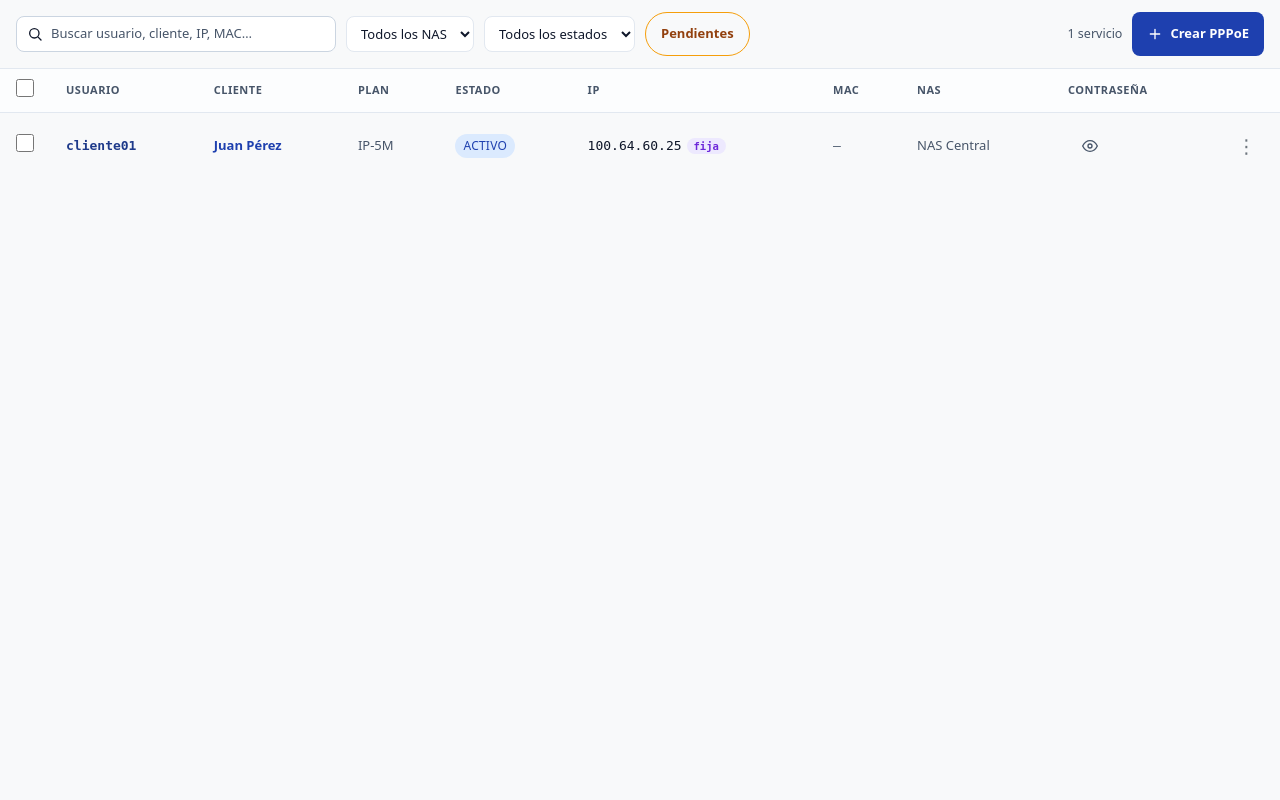
Test: MoveNasModal — S9.2 muestra la IP nueva › el botón Cerrar del estado de éxito cierra el modal
Click the button named "Acciones": (1246, 146) [1229, 132, 1264, 159]
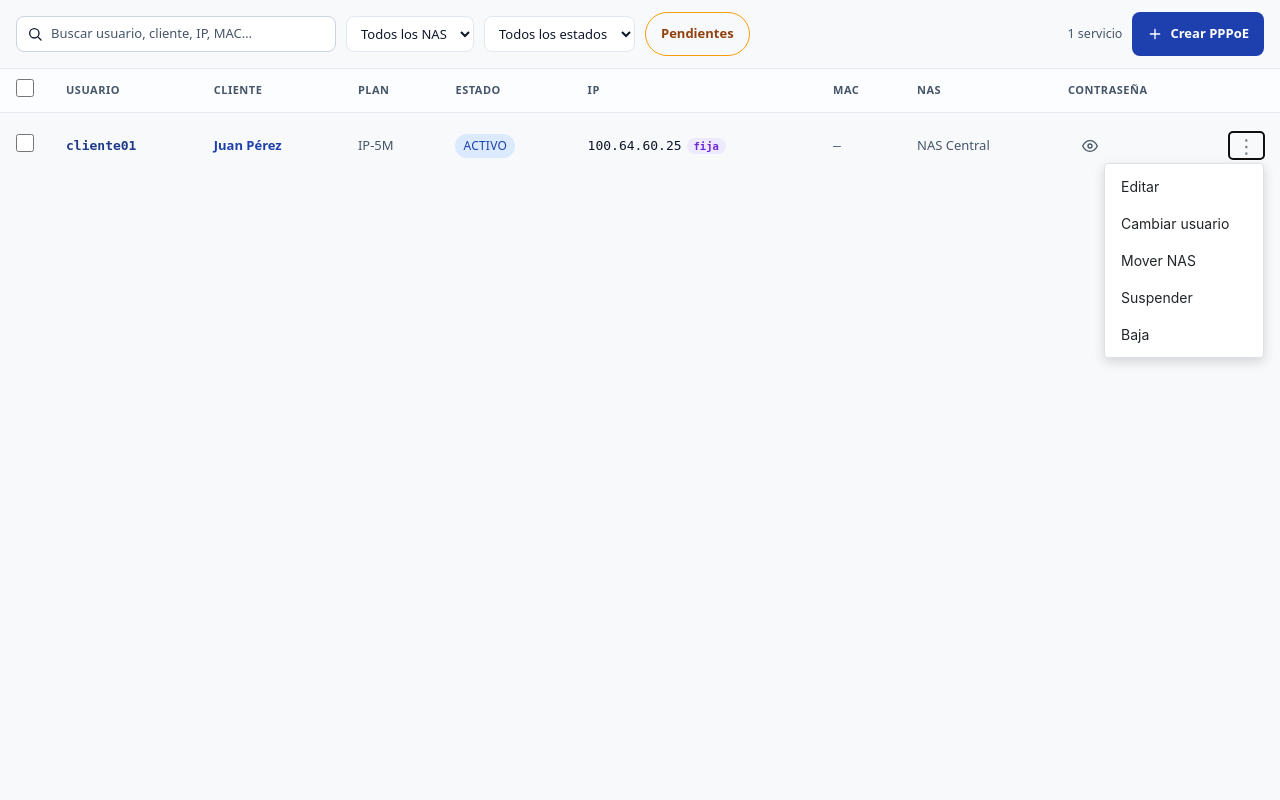
Click the menu item "Mover NAS": (1184, 261) [1105, 242, 1263, 279]
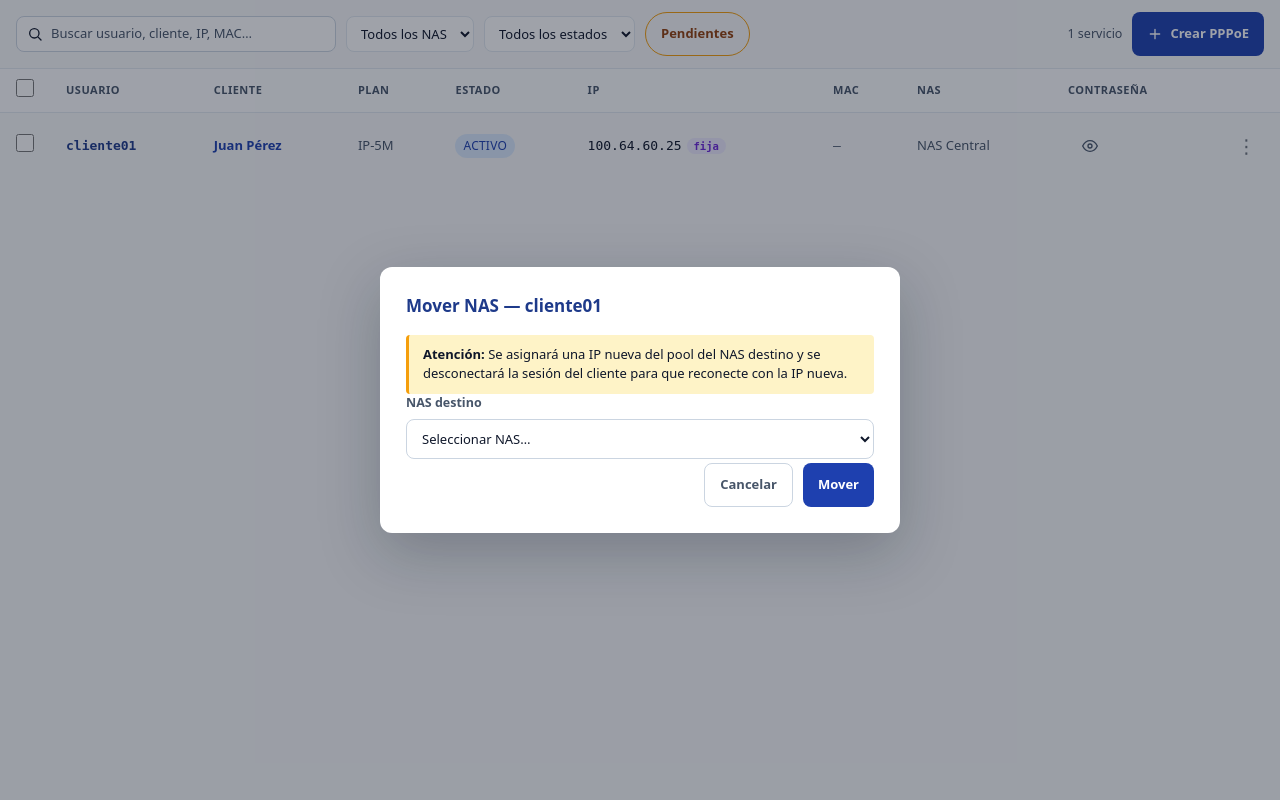
Select "NAS Norte" in the dropdown labelled "NAS destino": (640, 439) [406, 419, 874, 459]
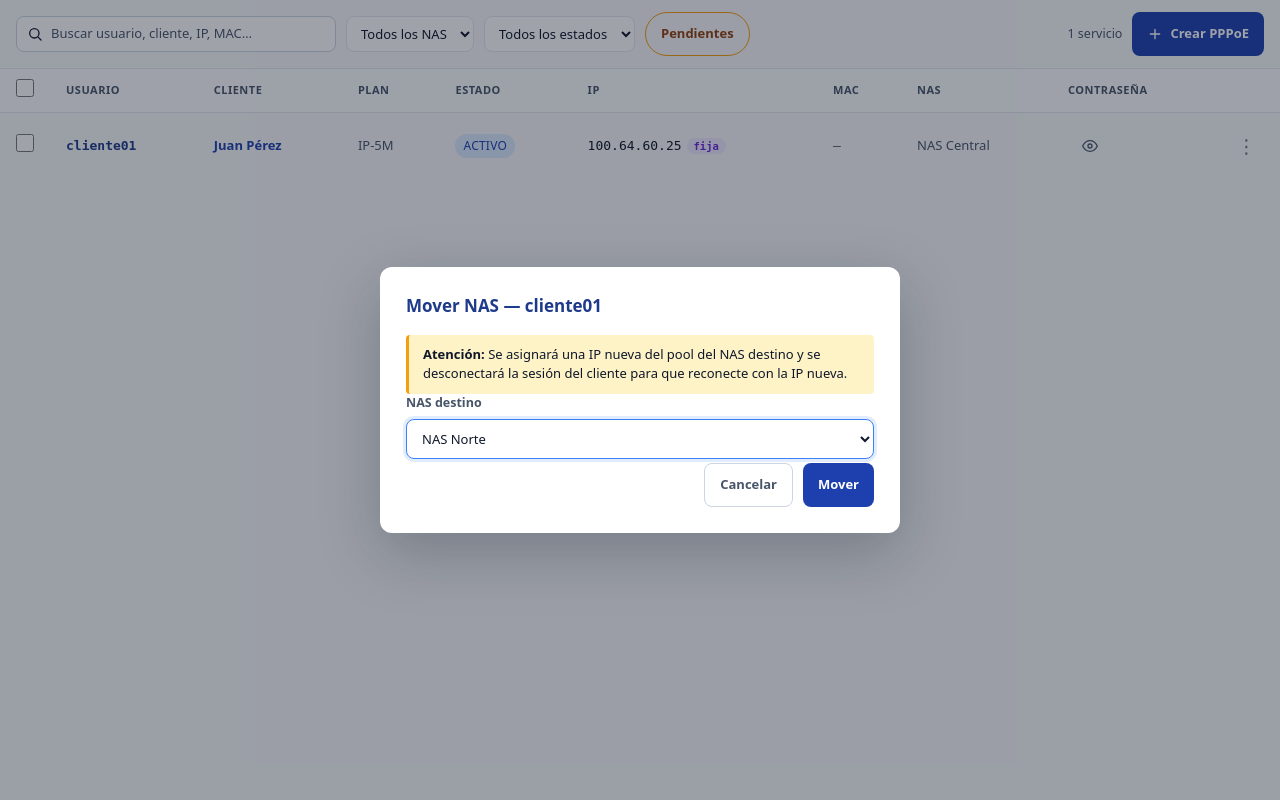
Click the button "Mover": (838, 485) [803, 463, 874, 507]
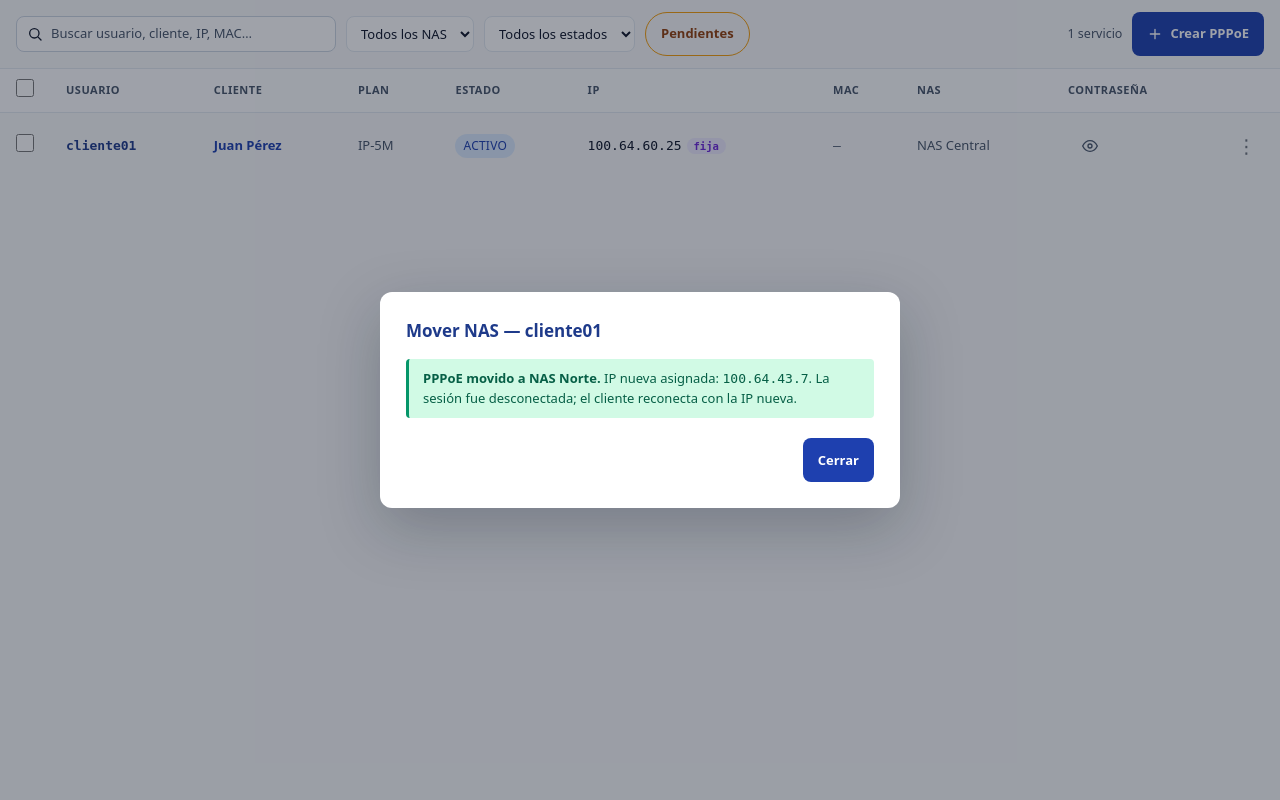
Expected: the text "100.64.43.7" is shown, [722, 371, 809, 386]
Click the button "Cerrar": (838, 460) [803, 438, 874, 482]
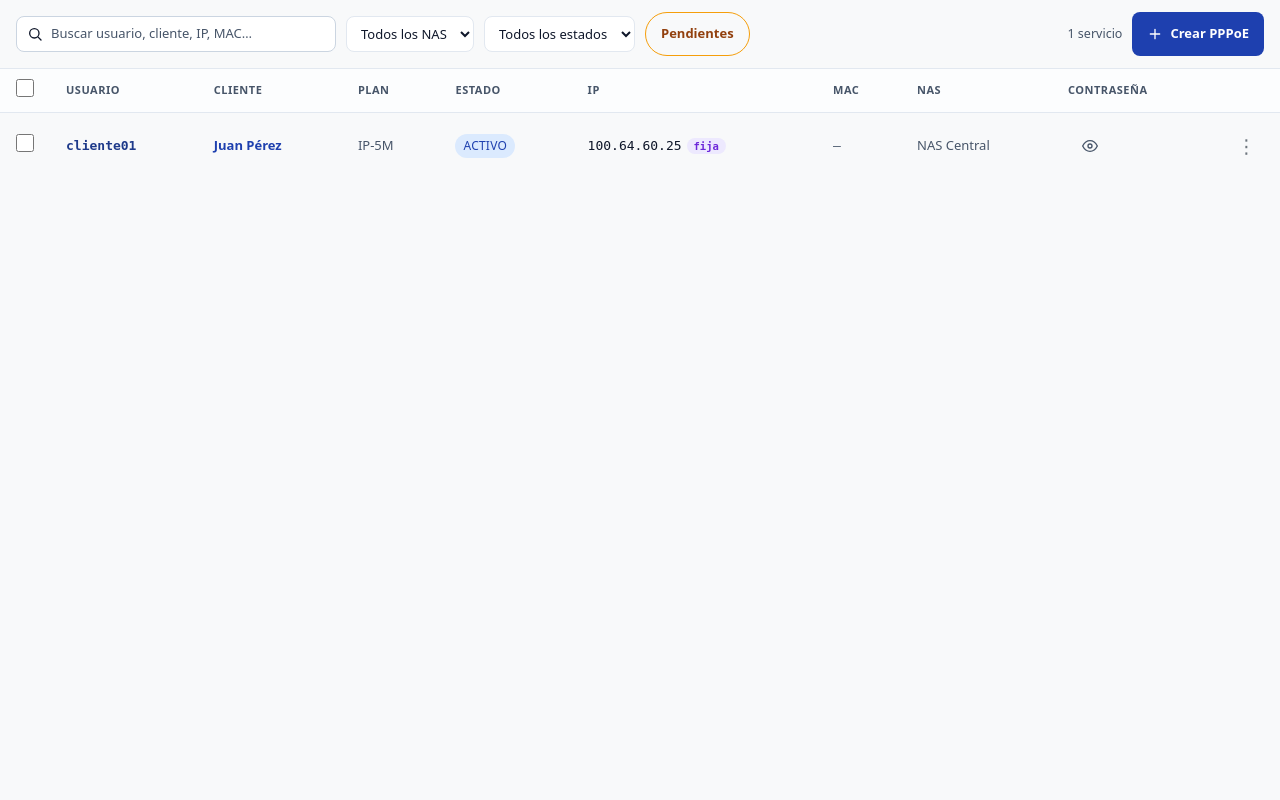
Expected: the dialog is gone
